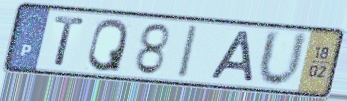8: (134, 21, 172, 77)
A: (207, 29, 256, 85)
I: (176, 22, 201, 81)
Q: (84, 17, 130, 74)
T: (52, 14, 88, 68)
U: (255, 27, 310, 91)
